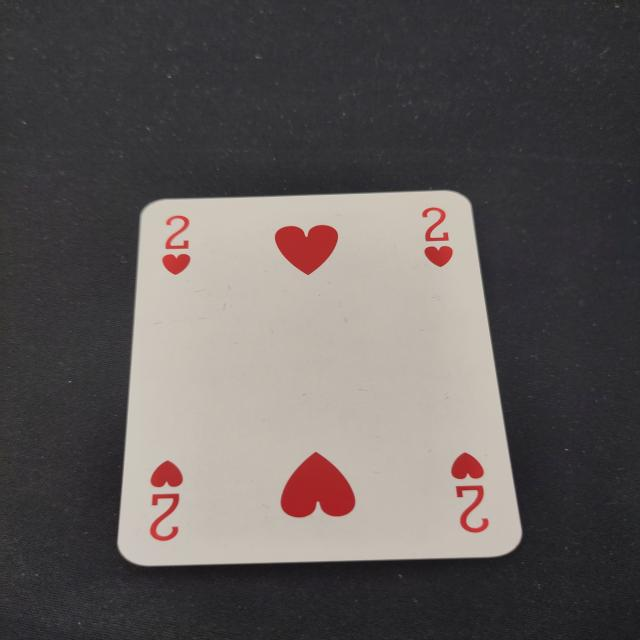2h: (431, 447, 509, 547), (127, 450, 202, 547), (150, 209, 206, 283), (414, 202, 471, 274)
